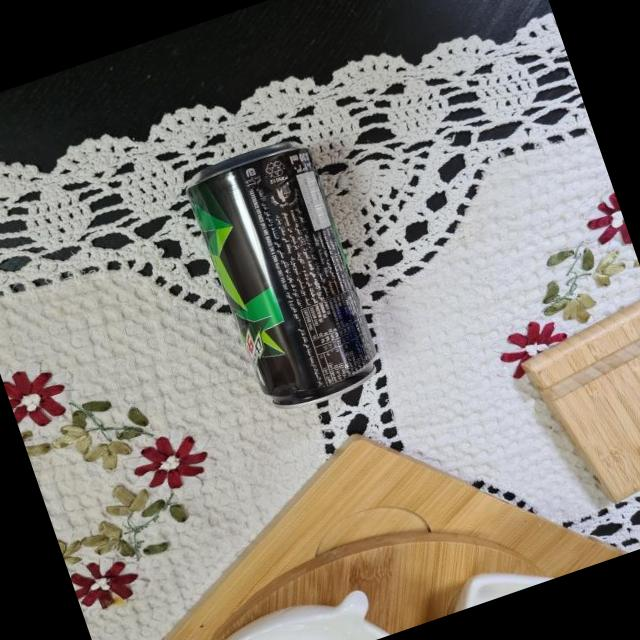Kaleng: (180, 132, 390, 422)
